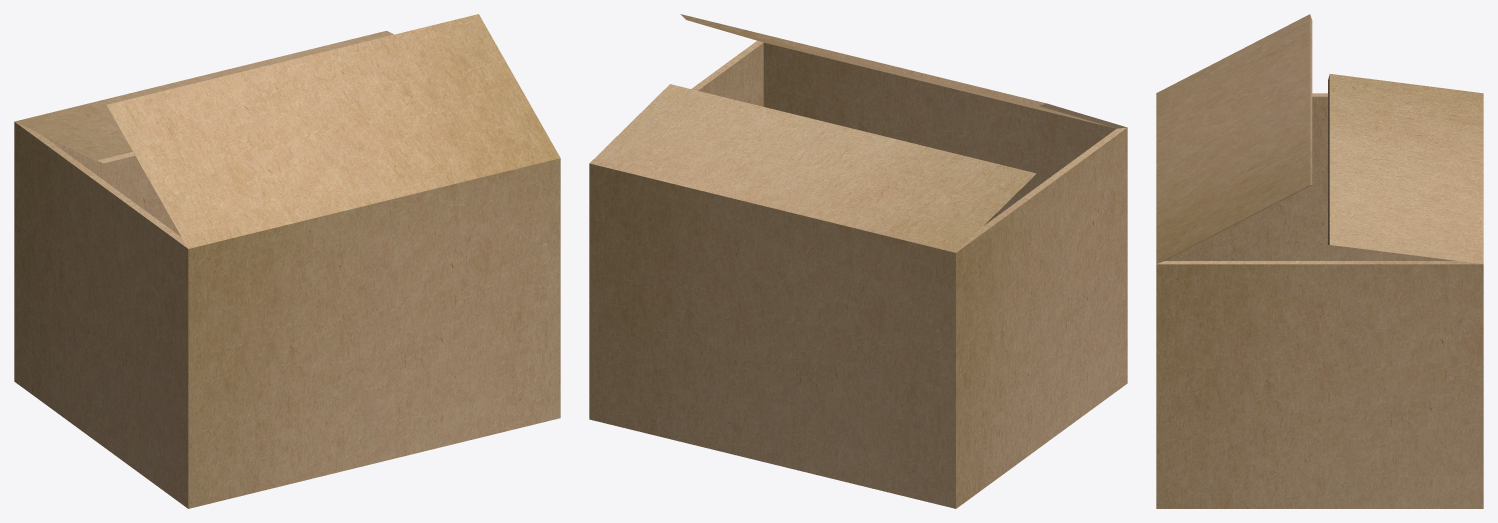
The picture shows the model from 3 angles, left to right: view 1: azimuth 30°, elevation 25°; view 2: azimuth 150°, elevation 25°; view 3: azimuth 270°, elevation 25°; orthographic projection. The views are drawn at different scales.
Visible parts, largest first — view 1: F_Box_03; view 2: F_Box_03; view 3: F_Box_03.
Part boxes in pixels (x1,y1,x2,y2): F_Box_03: [14, 14, 560, 508]; F_Box_03: [589, 14, 1127, 508]; F_Box_03: [1156, 14, 1483, 508].
Bounding box in the file's own units: 46.88 × 41.42 × 37.96.
Materials: 1 (1 with a texture image).
